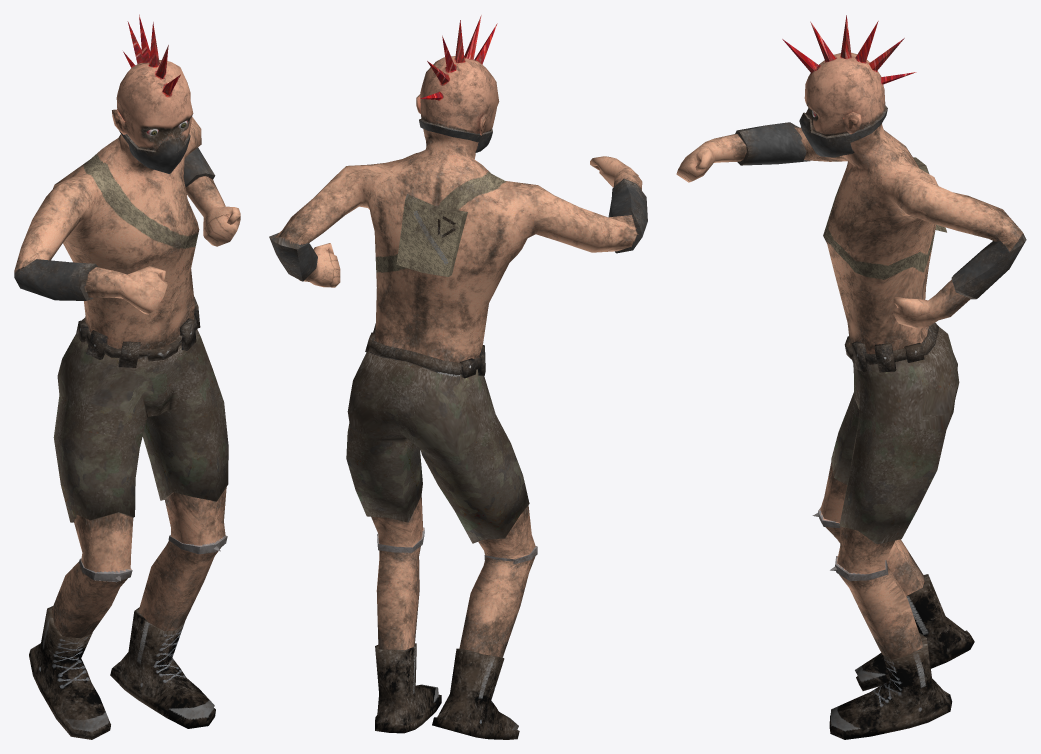
Rendered from Anim_ataque_d2_npc2.0029.obj.
The picture shows the model from 3 angles, left to right: view 1: azimuth 30°, elevation 25°; view 2: azimuth 150°, elevation 25°; view 3: azimuth 270°, elevation 25°; orthographic projection.
Visible parts, largest first — view 1: polySurface1; view 2: polySurface1; view 3: polySurface1.
Boxes of the visible parts, box(x1,y1,x2,y2) form: polySurface1: box(14, 14, 240, 739); polySurface1: box(269, 15, 647, 739); polySurface1: box(676, 15, 1026, 739).
Bounding box in the file's own units: 4.1 × 9.91 × 4.51.
